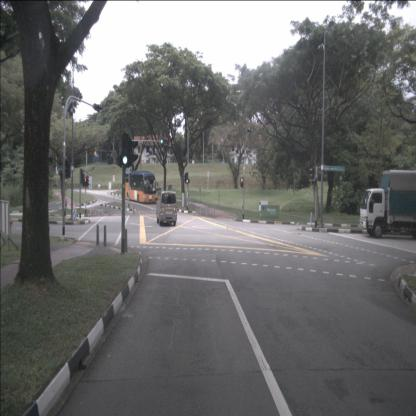vehicle-bus-rigid: (122, 171, 156, 204)
vehicle-car: (156, 191, 177, 226)
vehicle-truck: (359, 169, 415, 242)
